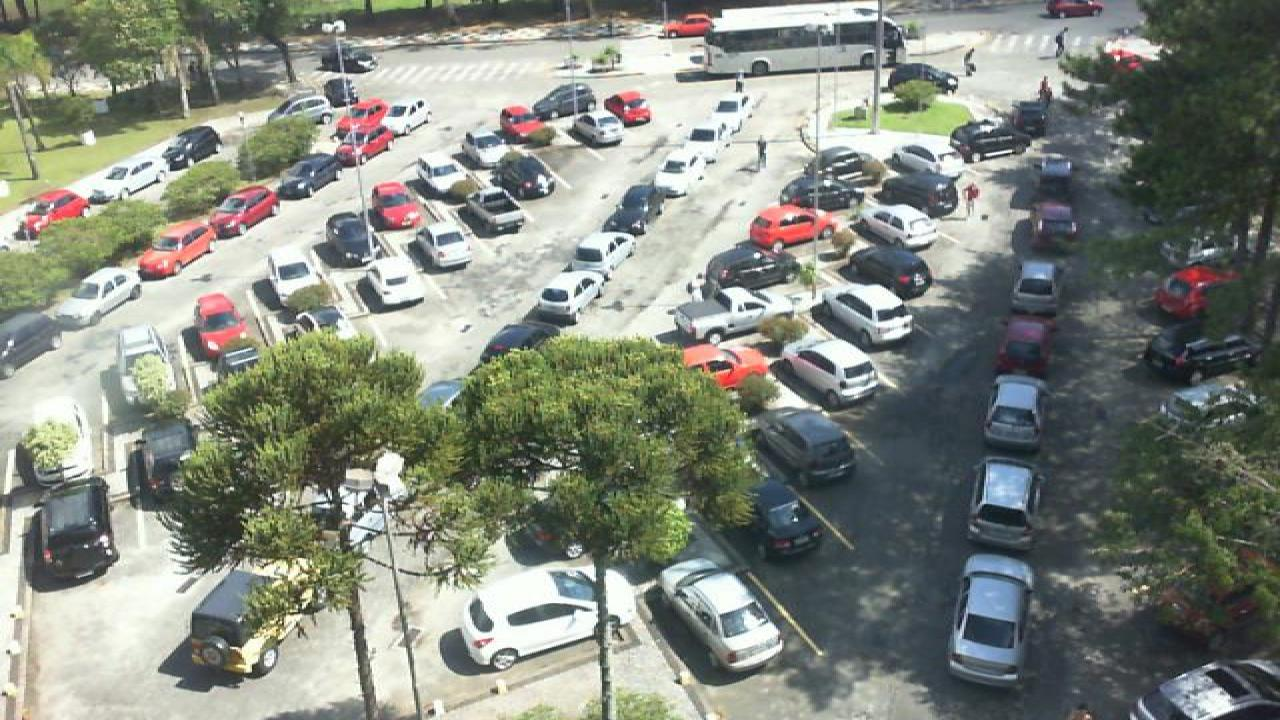Car: (442, 558, 638, 675), (658, 558, 788, 675), (188, 567, 320, 682), (946, 554, 1040, 690), (22, 481, 120, 582), (752, 411, 856, 488), (16, 397, 94, 491), (808, 282, 916, 348), (780, 338, 880, 409), (1140, 324, 1262, 382), (672, 288, 792, 346), (968, 456, 1040, 549), (746, 476, 826, 557), (136, 418, 200, 509), (48, 266, 140, 328), (842, 242, 934, 301), (1148, 263, 1236, 323), (980, 374, 1044, 454), (704, 245, 802, 296), (138, 219, 220, 279), (524, 268, 602, 330), (678, 342, 772, 393), (564, 229, 638, 290), (852, 204, 940, 254), (870, 172, 958, 221), (194, 290, 254, 361), (206, 182, 280, 239), (96, 151, 174, 205), (744, 204, 834, 248), (14, 187, 96, 235), (948, 117, 1030, 164), (598, 181, 664, 237), (996, 316, 1056, 377), (160, 123, 224, 180), (650, 147, 720, 199), (274, 150, 346, 200), (360, 253, 428, 305), (1010, 258, 1070, 316), (1020, 199, 1084, 253), (462, 186, 528, 238), (264, 248, 326, 303), (410, 216, 472, 270), (494, 153, 556, 203), (322, 210, 376, 266), (416, 151, 478, 198), (368, 180, 424, 231), (696, 104, 756, 148), (800, 146, 866, 186), (566, 107, 628, 147), (888, 142, 960, 176), (498, 106, 558, 146), (530, 82, 598, 117), (374, 97, 436, 135), (336, 121, 394, 158), (598, 90, 654, 126), (262, 92, 328, 122), (334, 98, 388, 125)
